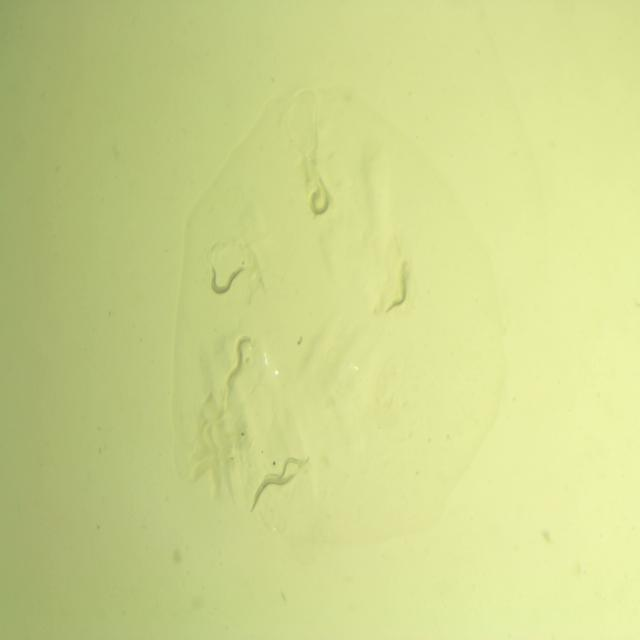worm: (248, 471, 297, 515), (259, 452, 312, 488), (382, 258, 410, 318), (225, 332, 254, 388), (208, 258, 248, 297), (307, 175, 331, 218)
